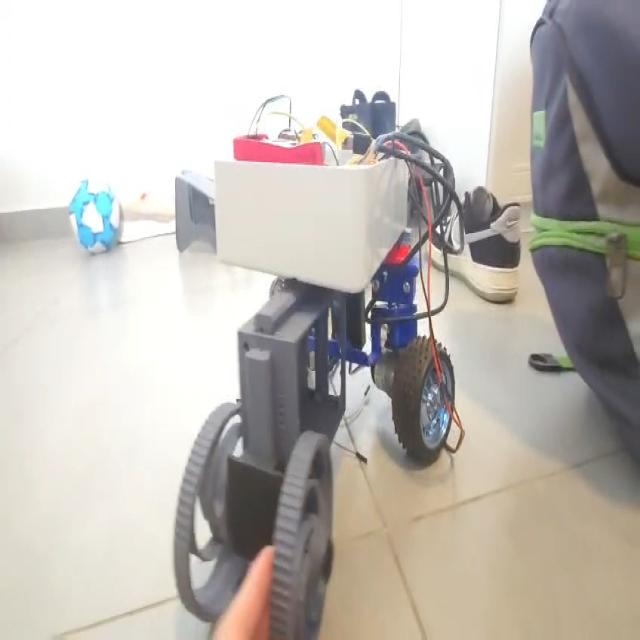Robot: (171, 107, 458, 640)
